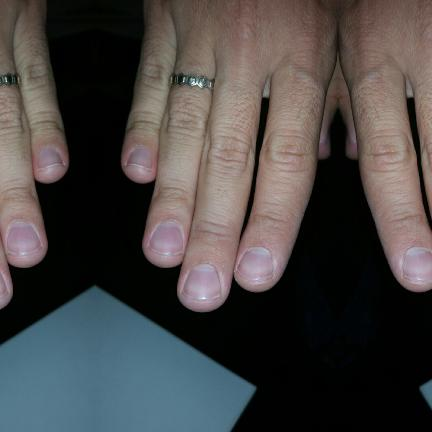Nail: (182, 265, 219, 300), (148, 222, 182, 255), (6, 222, 40, 255), (237, 248, 271, 280), (403, 248, 432, 280), (125, 147, 151, 170), (37, 147, 63, 170), (0, 275, 6, 297)
